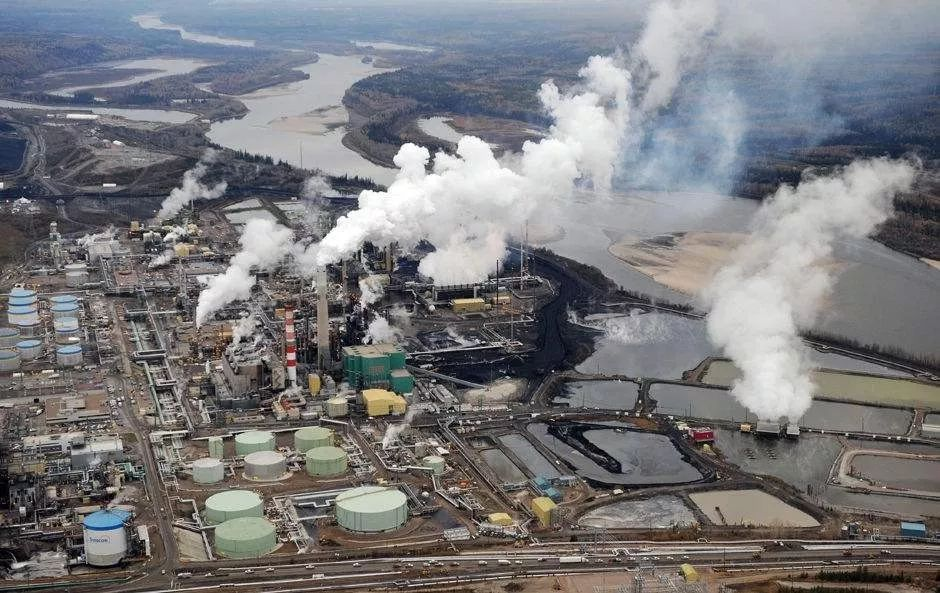dust: (709, 248, 882, 429), (288, 153, 458, 271), (174, 226, 293, 332), (170, 237, 281, 335), (146, 162, 223, 238)
